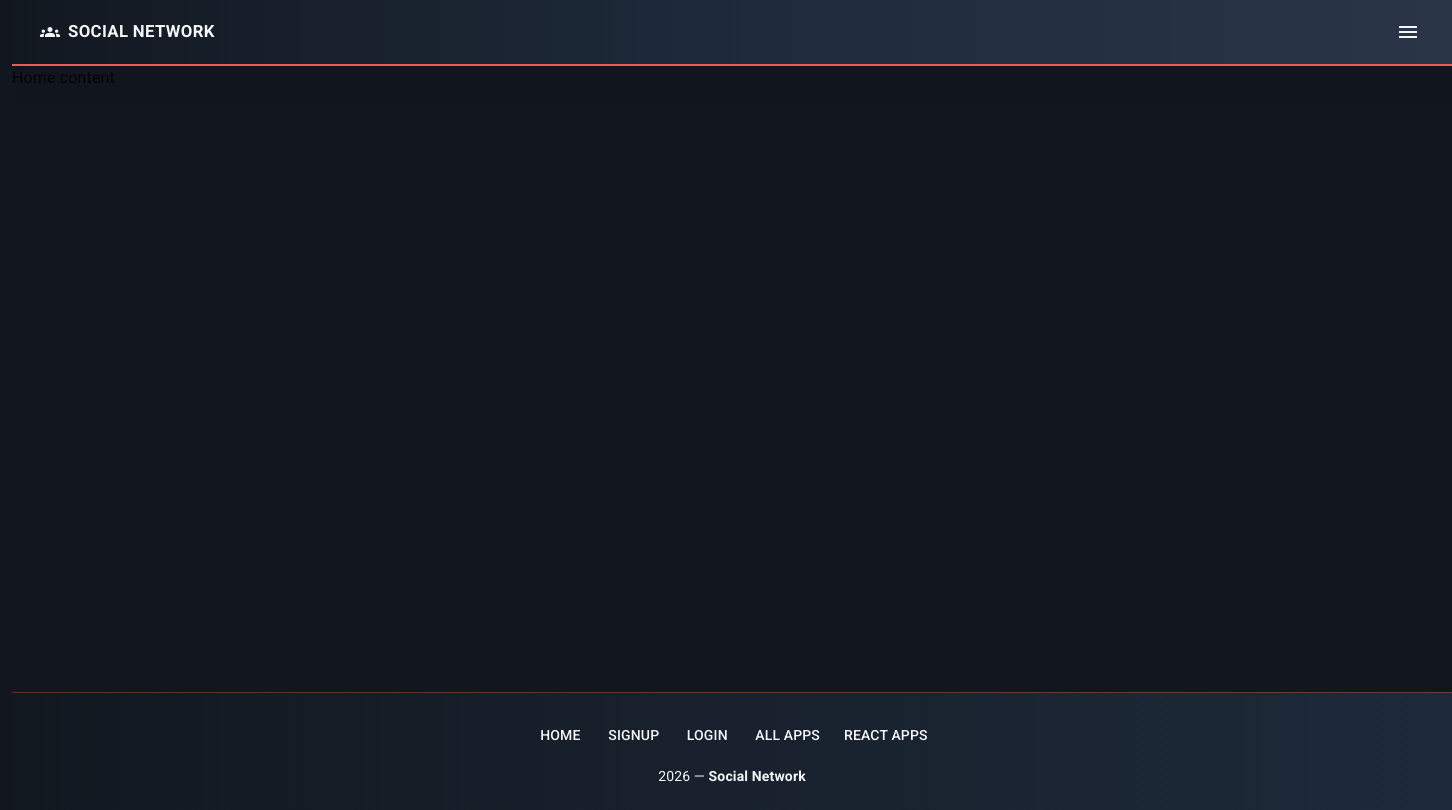
Test: MainSocialLayout › opens mobile navigation menu with All Apps link when remote host is set
Click the button named "Open menu".
click(1408, 32)  # box [1388, 12, 1428, 52]
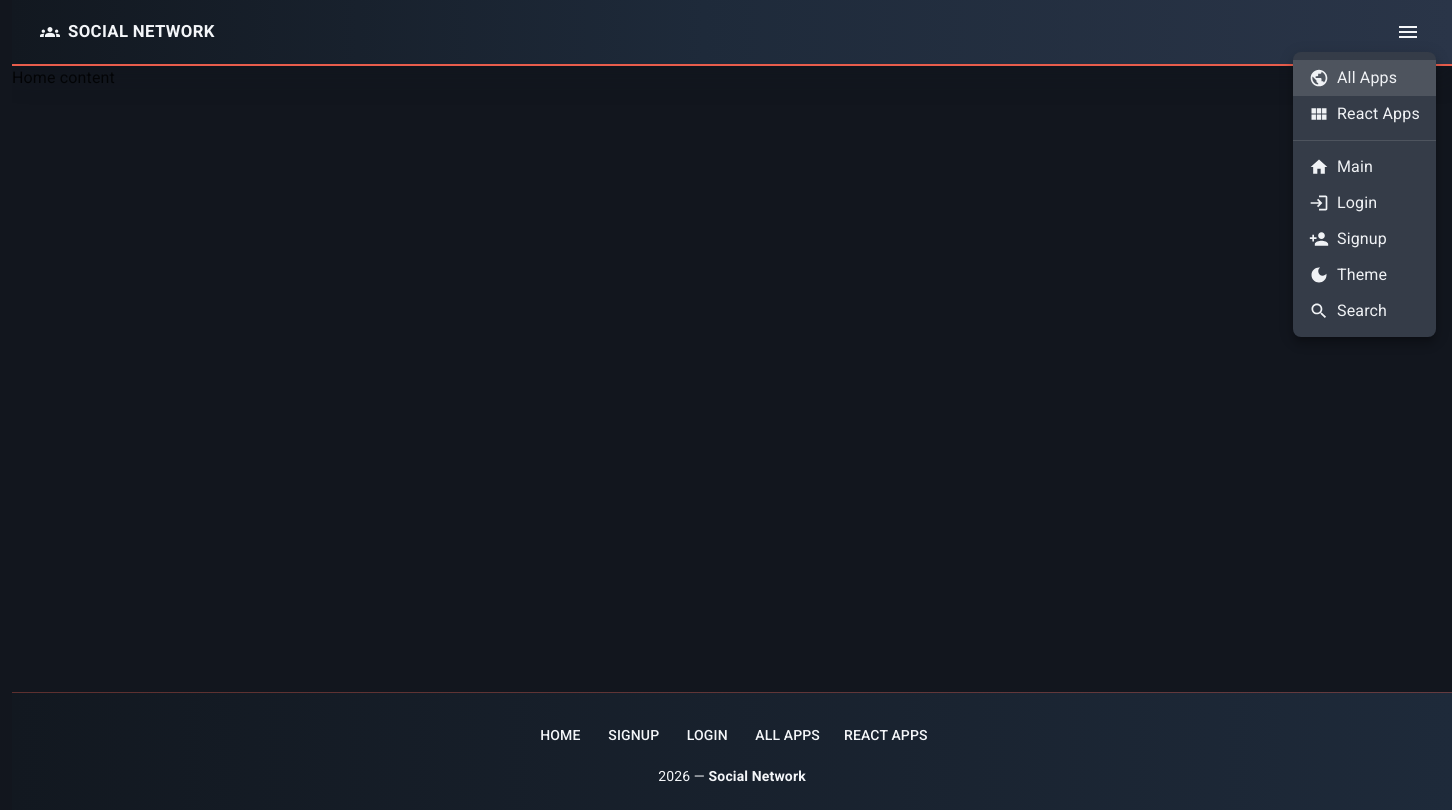
Now the menu item "All Apps" is shown, box [1293, 60, 1436, 96]
